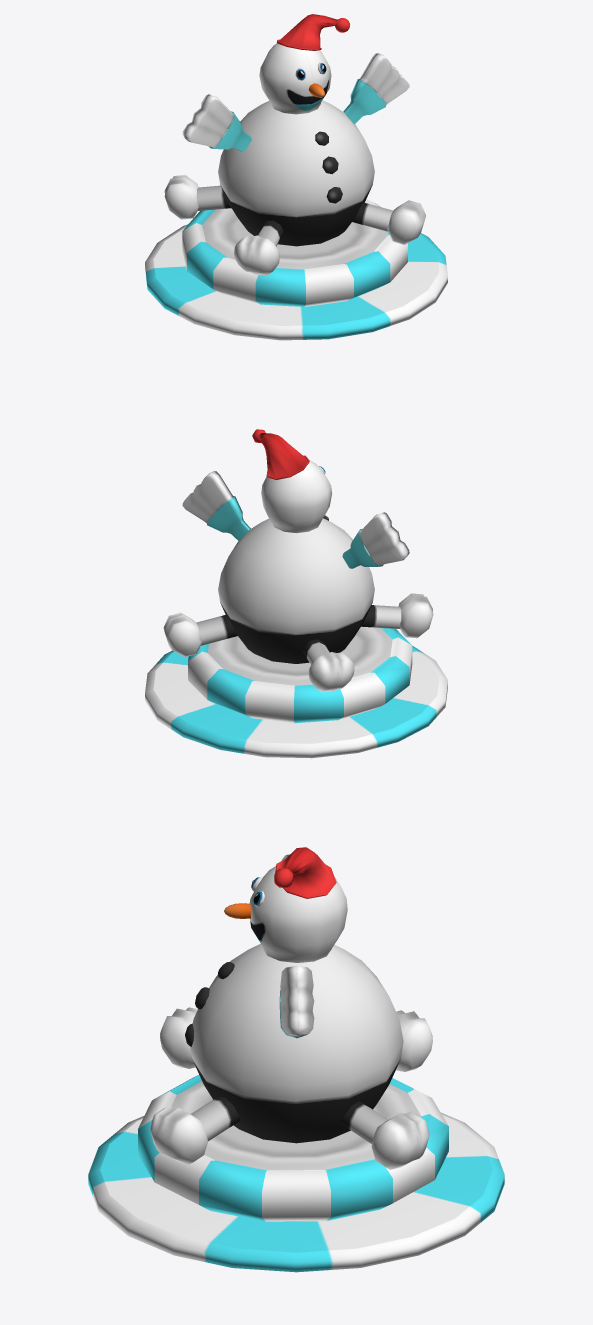
File: snowman.DAE
3 renders of one model, top to bottom at view 1: azimuth 30°, elevation 25°; view 2: azimuth 150°, elevation 25°; view 3: azimuth 270°, elevation 25°, orthographic. The views are drawn at different scales.
Parts seen in each view (by area): view 1: snowman; view 2: snowman; view 3: snowman.
Part boxes in pixels (x1,y1,x2,y2): snowman: (145,14,447,340); snowman: (145,429,447,758); snowman: (88,847,504,1272).
Size of the model in its own units: 4009 by 4009 by 2784.
Materials: 2 (2 with a texture image).
